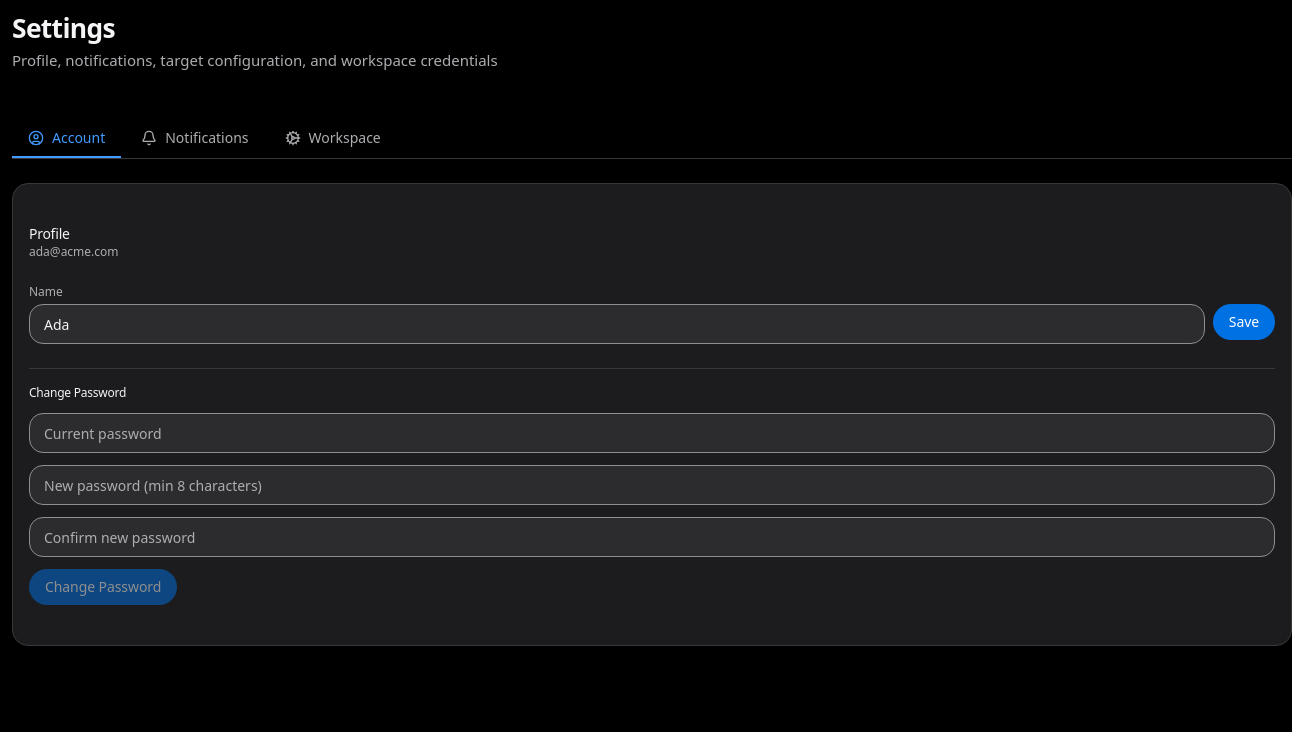
Test case: Settings, saving a display name › says why the save was refused, and keeps what the user typed
Check: the text "ada@acme.com" is shown, box [29,243,119,260]
Replace the text in the field named "Display name" with "Ada Lovelace". click: coordinates (617, 324)
box: [29,304,1205,344]
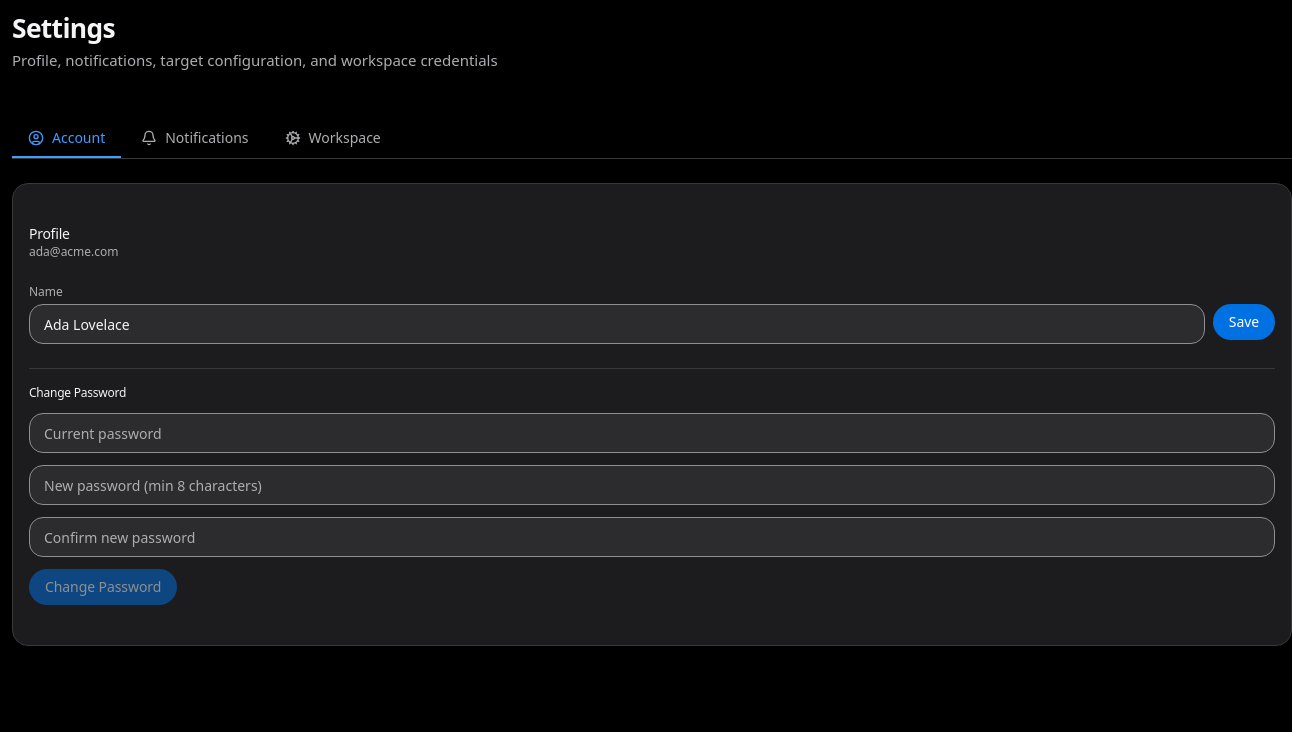
Click the button "Save". click: coordinates (1244, 322)
box: [1213,304,1275,340]
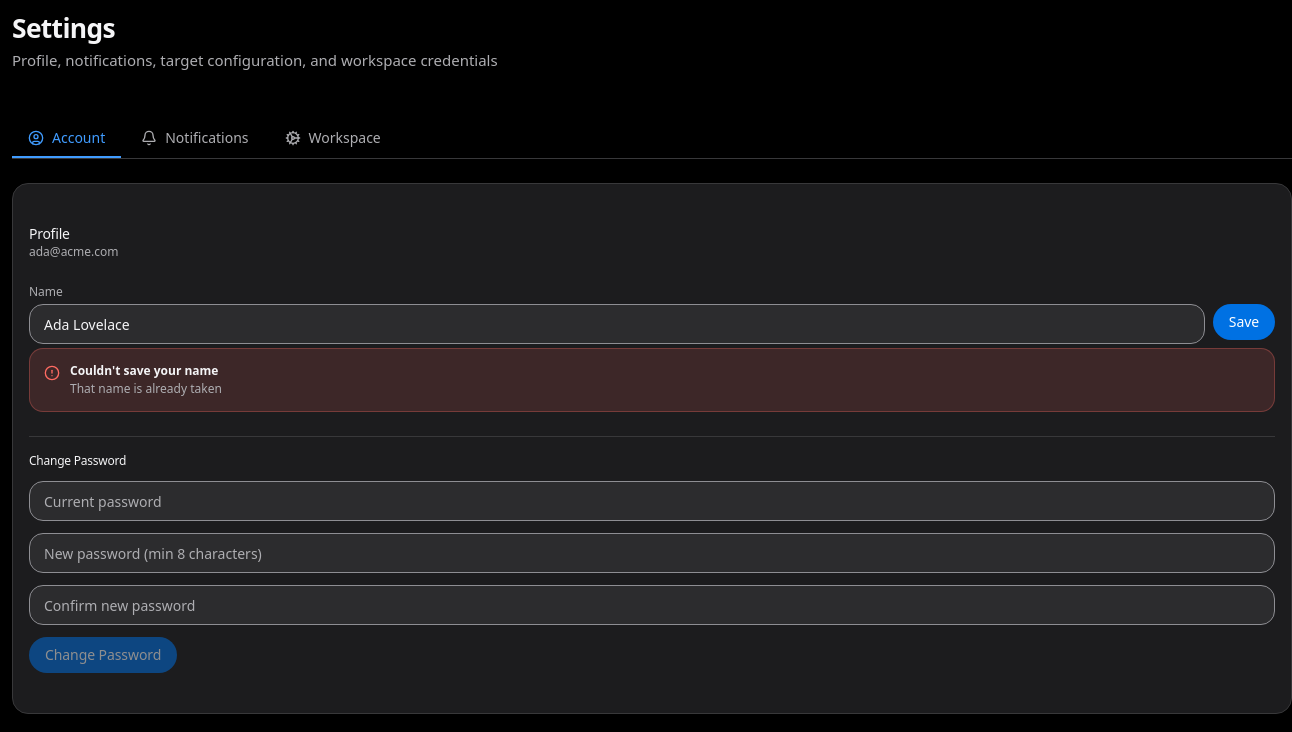
Check: the message shows "That name is already taken", box [70,380,222,397]
